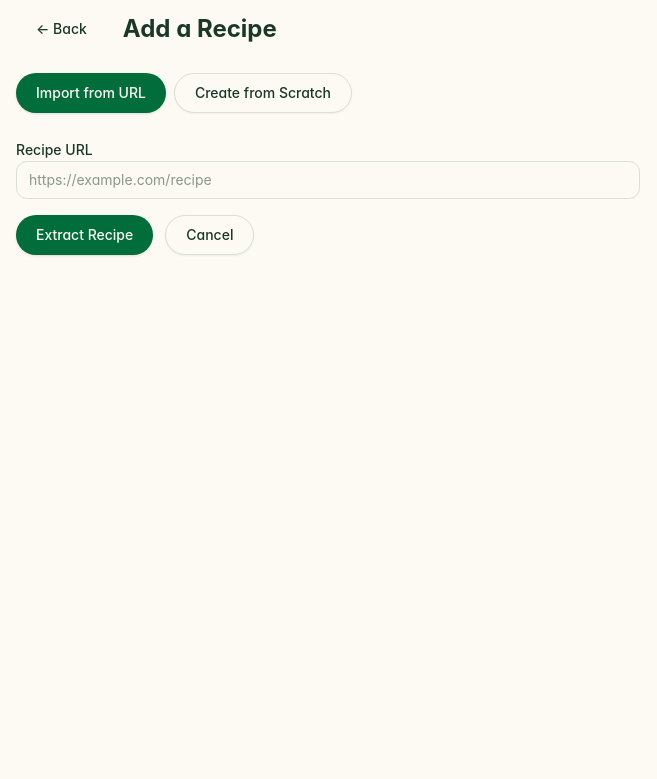
AddRecipePage › renders manual recipe form when create from scratch is selected
The image size is (657, 779).
Click the button "Create from Scratch": (263, 93) top-left (174, 73), bottom-right (352, 113)
(page scrolled)
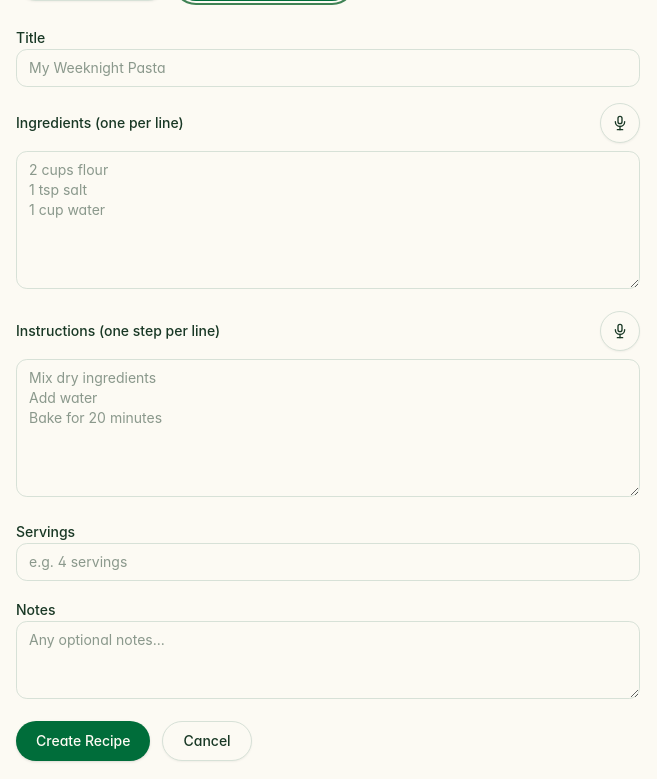
Expected: the field labelled "Title" is shown, top-left (16, 49), bottom-right (640, 87)
Expected: the text box labelled "Ingredients (one per line)" is shown, top-left (16, 151), bottom-right (640, 289)
Expected: the text box labelled "Instructions (one step per line)" is shown, top-left (16, 359), bottom-right (640, 497)
